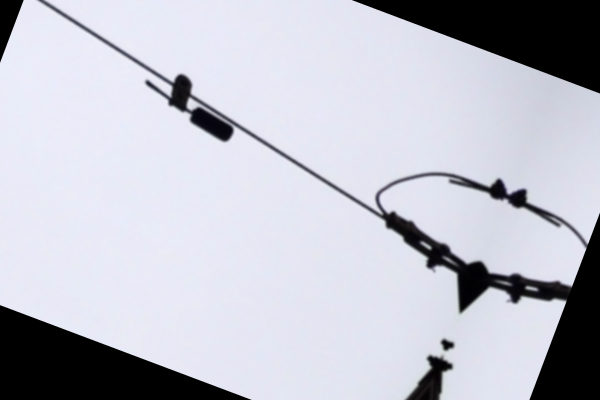damper_defect: (138, 67, 235, 144)
